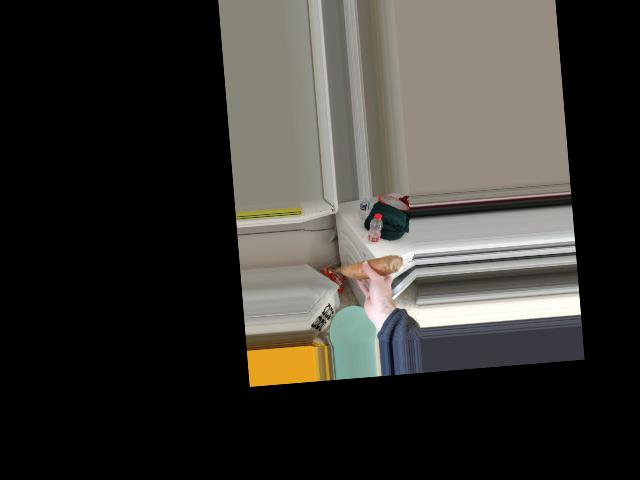sweet_potato: (341, 261, 394, 280)
